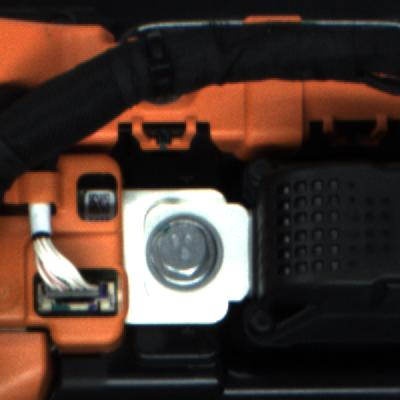nut_b: (141, 211, 224, 292)
